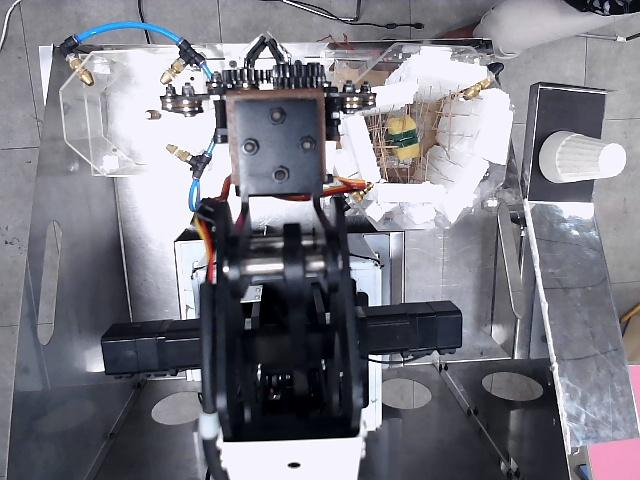cup: (540, 129, 627, 185), (411, 0, 495, 38)
